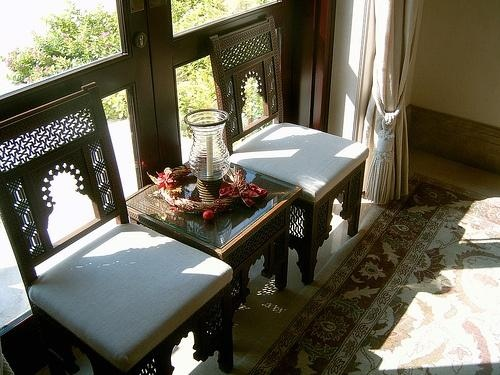chair: (2, 82, 235, 375), (210, 15, 371, 287)
